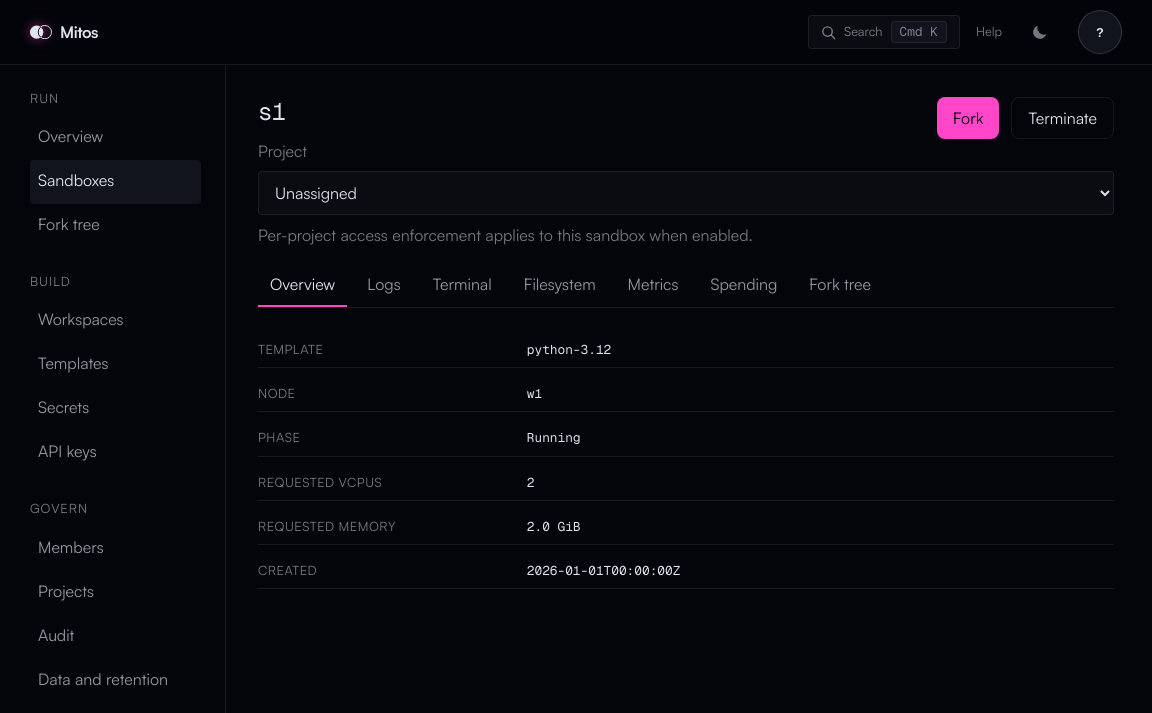
SandboxDetail › header Terminate button deletes the sandbox and navigates back to the list
Expected: the heading "s1" is shown, 258,100 -> 285,124
Step 1. Click the button with aria-label "terminate s1" → (1063, 118), box 1011,97 -> 1114,139
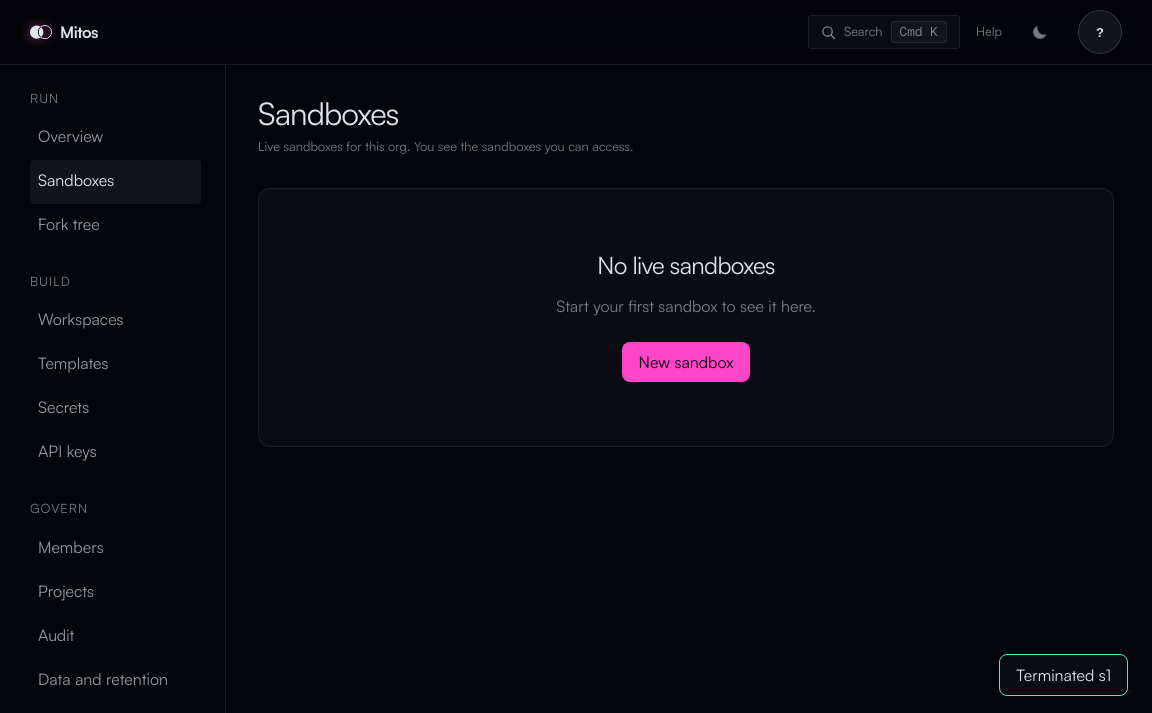
Expected: the heading "Sandboxes" is shown, 258,93 -> 398,132
